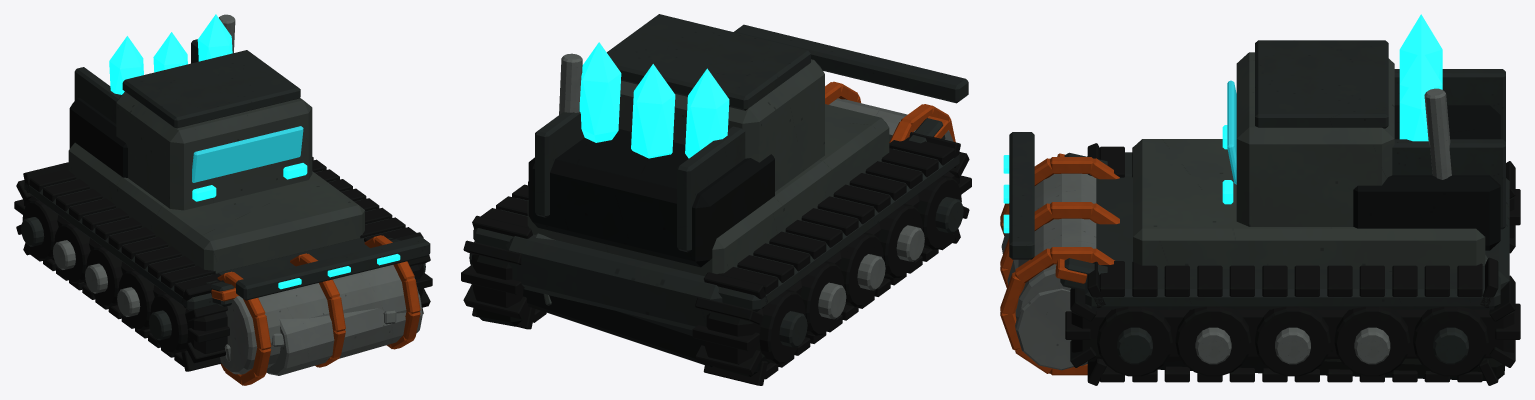
File: ff_hrv_01_v1.glb
3 renders of one model, left to right at view 1: azimuth 30°, elevation 25°; view 2: azimuth 150°, elevation 25°; view 3: azimuth 270°, elevation 25°, orthographic. The views are drawn at different scales.
Visible parts, largest first — view 1: FF_HRV_01_M_ArmorPanel_runtime, FF_HRV_01_M_TrackRubber_runtime, FF_HRV_01_M_Gunmetal_runtime, collector_head_M_Steel_runtime, wreck_collector, collector_head_M_AmberArmor_runtime, collector_head_M_Gunmetal_runtime, FF_HRV_01_M_CyanGlass_runtime, FF_HRV_01_M_Recess_runtime, FF_HRV_01_M_Steel_runtime, cargo_slot_0_M_Huijing_runtime, cargo_slot_2_M_Huijing_runtime (+3 smaller); view 2: FF_HRV_01_M_Gunmetal_runtime, FF_HRV_01_M_TrackRubber_runtime, FF_HRV_01_M_ArmorPanel_runtime, FF_HRV_01_M_Recess_runtime, collector_head_M_Gunmetal_runtime, wreck_chassis, FF_HRV_01_M_Steel_runtime, cargo_slot_2_M_Huijing_runtime, cargo_slot_1_M_Huijing_runtime, cargo_slot_0_M_Huijing_runtime, collector_head_M_AmberArmor_runtime, collector_head_M_Steel_runtime; view 3: FF_HRV_01_M_TrackRubber_runtime, FF_HRV_01_M_ArmorPanel_runtime, FF_HRV_01_M_Gunmetal_runtime, FF_HRV_01_M_Recess_runtime, collector_head_M_AmberArmor_runtime, FF_HRV_01_M_Steel_runtime, collector_head_M_Steel_runtime, collector_head_M_Gunmetal_runtime, wreck_collector, cargo_slot_2_M_Huijing_runtime, cargo_slot_0_M_Huijing_runtime, wreck_chassis (+2 smaller).
Boxes of the visible parts, box(x1,y1,x2,y2) form: FF_HRV_01_M_ArmorPanel_runtime: box(68, 92, 364, 273); FF_HRV_01_M_TrackRubber_runtime: box(14, 157, 432, 371); FF_HRV_01_M_Gunmetal_runtime: box(21, 39, 425, 340); collector_head_M_Steel_runtime: box(220, 265, 418, 374); wreck_collector: box(224, 292, 422, 375); collector_head_M_AmberArmor_runtime: box(211, 235, 420, 385); collector_head_M_Gunmetal_runtime: box(206, 236, 430, 306); FF_HRV_01_M_CyanGlass_runtime: box(192, 126, 303, 182); FF_HRV_01_M_Recess_runtime: box(69, 98, 127, 177); FF_HRV_01_M_Steel_runtime: box(53, 14, 235, 316); cargo_slot_0_M_Huijing_runtime: box(109, 36, 143, 94); cargo_slot_2_M_Huijing_runtime: box(197, 14, 232, 61); FF_HRV_01_M_Gunmetal_runtime: box(469, 14, 963, 347); FF_HRV_01_M_TrackRubber_runtime: box(461, 132, 971, 385); FF_HRV_01_M_ArmorPanel_runtime: box(527, 59, 889, 276); FF_HRV_01_M_Recess_runtime: box(528, 129, 774, 267); collector_head_M_Gunmetal_runtime: box(734, 24, 968, 143); wreck_chassis: box(475, 289, 807, 376); FF_HRV_01_M_Steel_runtime: box(559, 53, 924, 319); cargo_slot_2_M_Huijing_runtime: box(579, 42, 621, 142); cargo_slot_1_M_Huijing_runtime: box(631, 64, 675, 158); cargo_slot_0_M_Huijing_runtime: box(685, 68, 729, 158); collector_head_M_AmberArmor_runtime: box(825, 81, 955, 142); collector_head_M_Steel_runtime: box(829, 98, 953, 141); FF_HRV_01_M_TrackRubber_runtime: box(1065, 143, 1520, 385); FF_HRV_01_M_ArmorPanel_runtime: box(1133, 52, 1485, 269); FF_HRV_01_M_Gunmetal_runtime: box(1085, 40, 1509, 364); FF_HRV_01_M_Recess_runtime: box(1353, 105, 1500, 250); collector_head_M_AmberArmor_runtime: box(1000, 153, 1119, 375); FF_HRV_01_M_Steel_runtime: box(1195, 88, 1451, 364); collector_head_M_Steel_runtime: box(1015, 173, 1096, 365); collector_head_M_Gunmetal_runtime: box(1009, 132, 1107, 291); wreck_collector: box(1001, 233, 1073, 370); cargo_slot_2_M_Huijing_runtime: box(1399, 67, 1433, 141); cargo_slot_0_M_Huijing_runtime: box(1399, 14, 1442, 84); wreck_chassis: box(1158, 358, 1505, 380).
Size of the model in its own units: 4.18 by 3.51 by 5.76.
9 materials, 6 textured.
